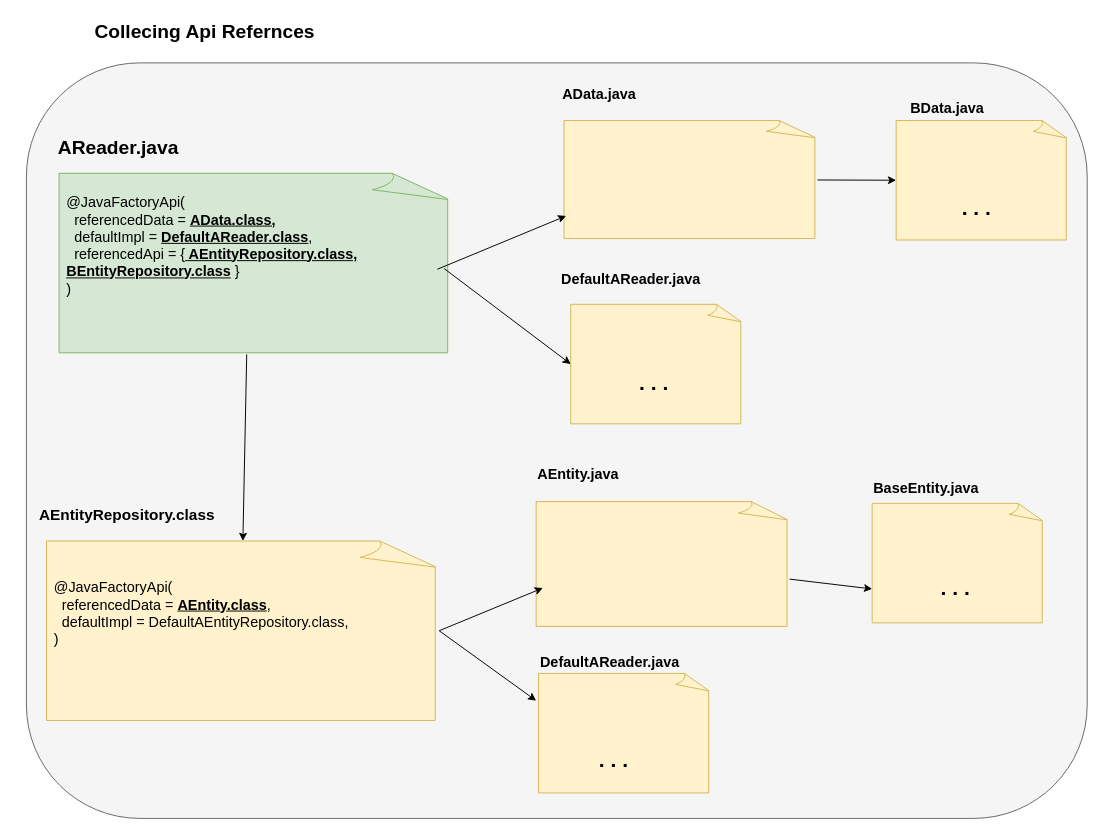
This 1104x835 diagram has some shape labels left out. Each missing label, with the centre of its shape:
"@JavaFactoryData( referencedClass = BaseEntity.class )" belongs at (x=662, y=563).
"@JavaFactoryData( referencedData = B Data.class )" belongs at (x=690, y=179).
